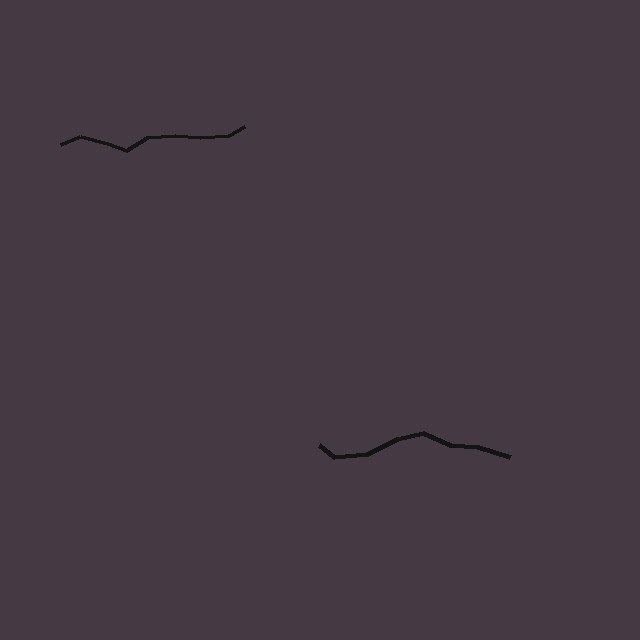crack: (319, 376, 494, 514), (61, 90, 235, 199)
